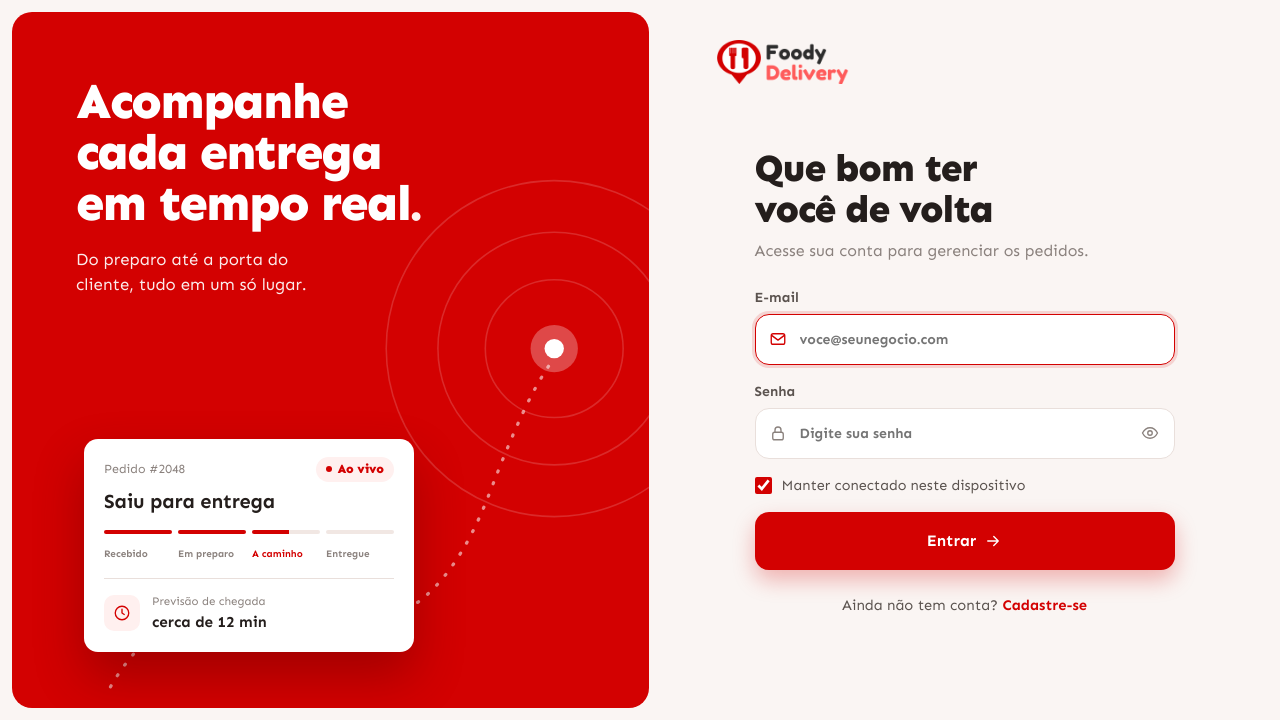
Test: LoginPage › shows the API message and stays on the page when the login fails
The image size is (1280, 720).
Type "ana@test.com" into the field labelled "E-mail" at (965, 339), box [755, 314, 1175, 365]
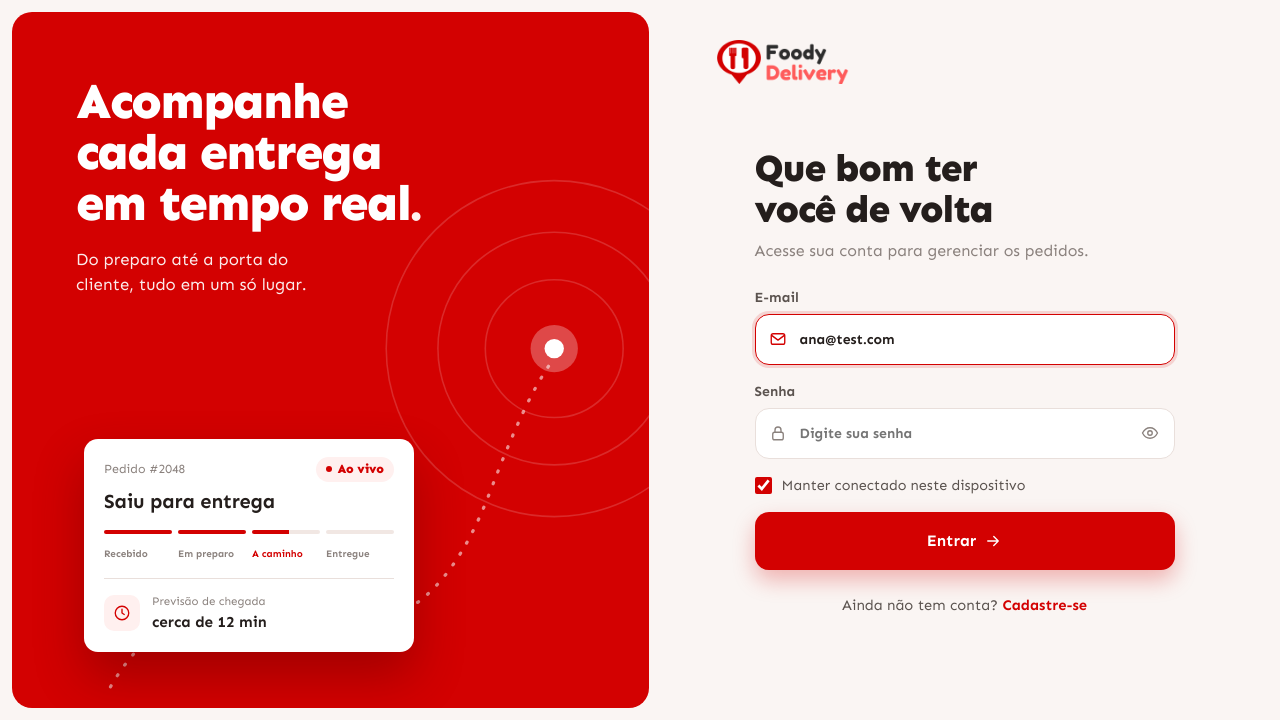
Type "wrong-password" into the password field labelled "Senha" at (965, 433), box [755, 408, 1175, 459]
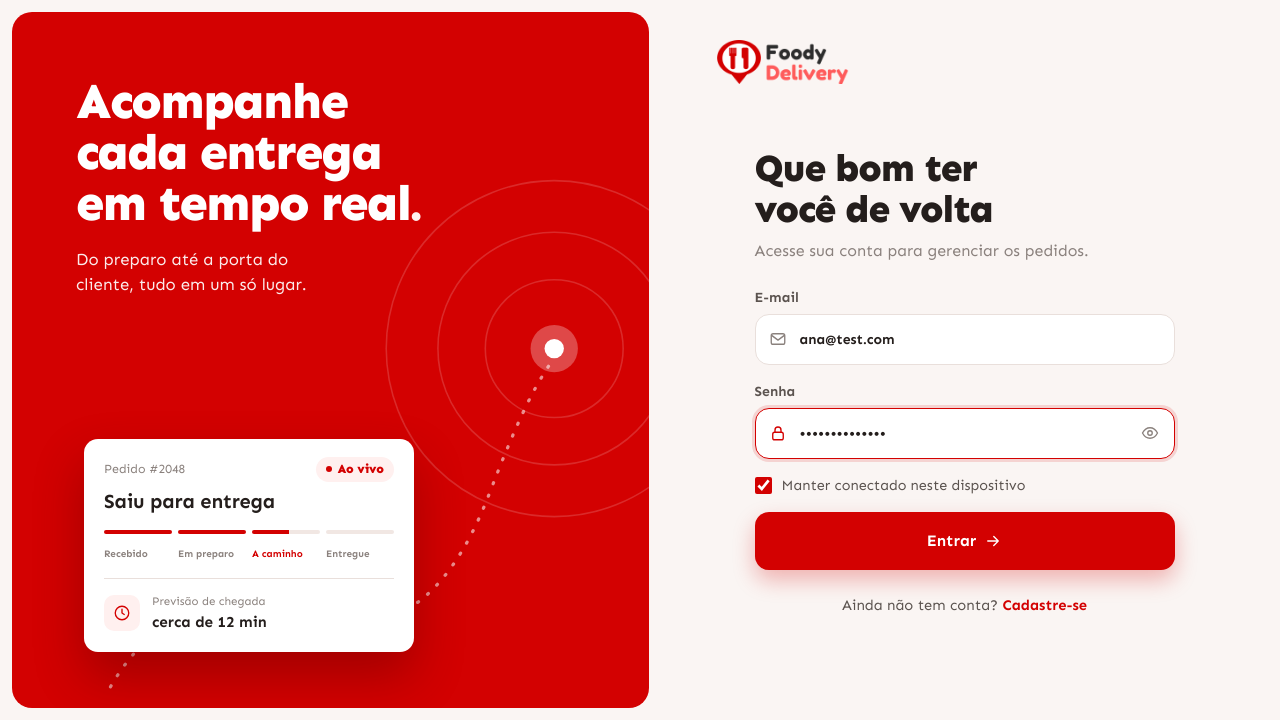
Click the button "Entrar" at (965, 541), box [755, 512, 1175, 570]
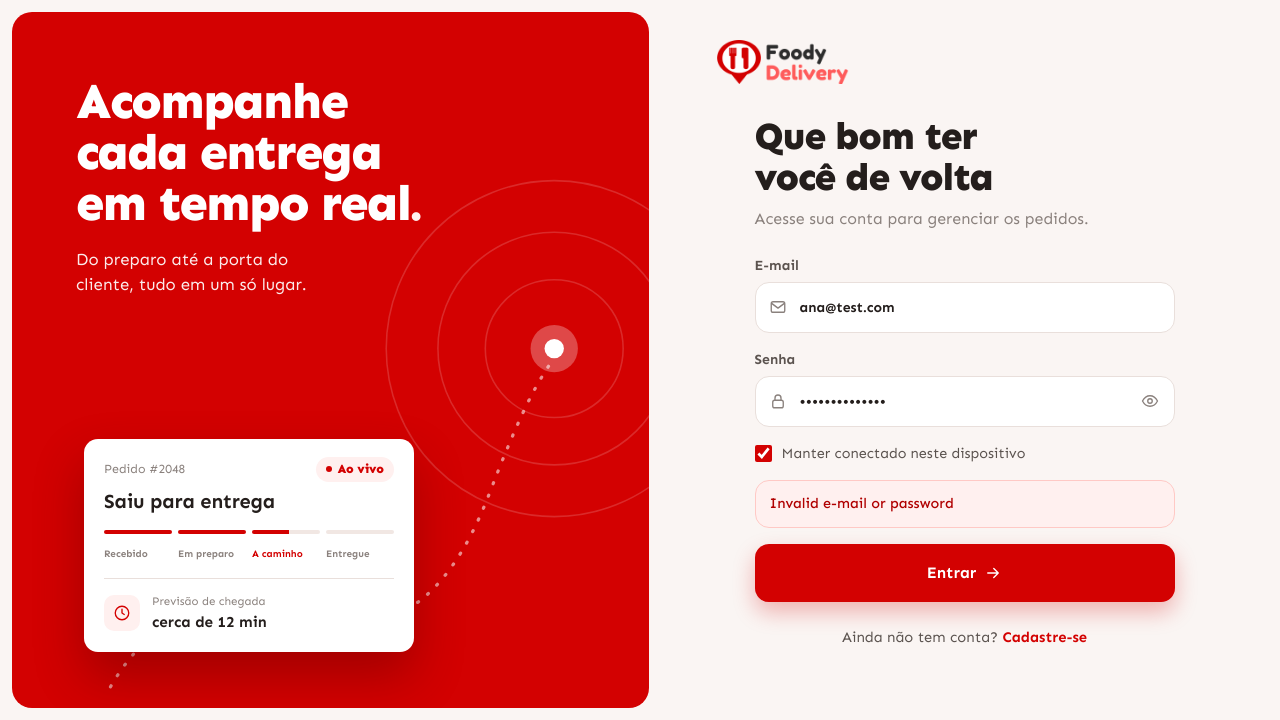
Now the message reads "Invalid e-mail or password", box [770, 494, 954, 512]
